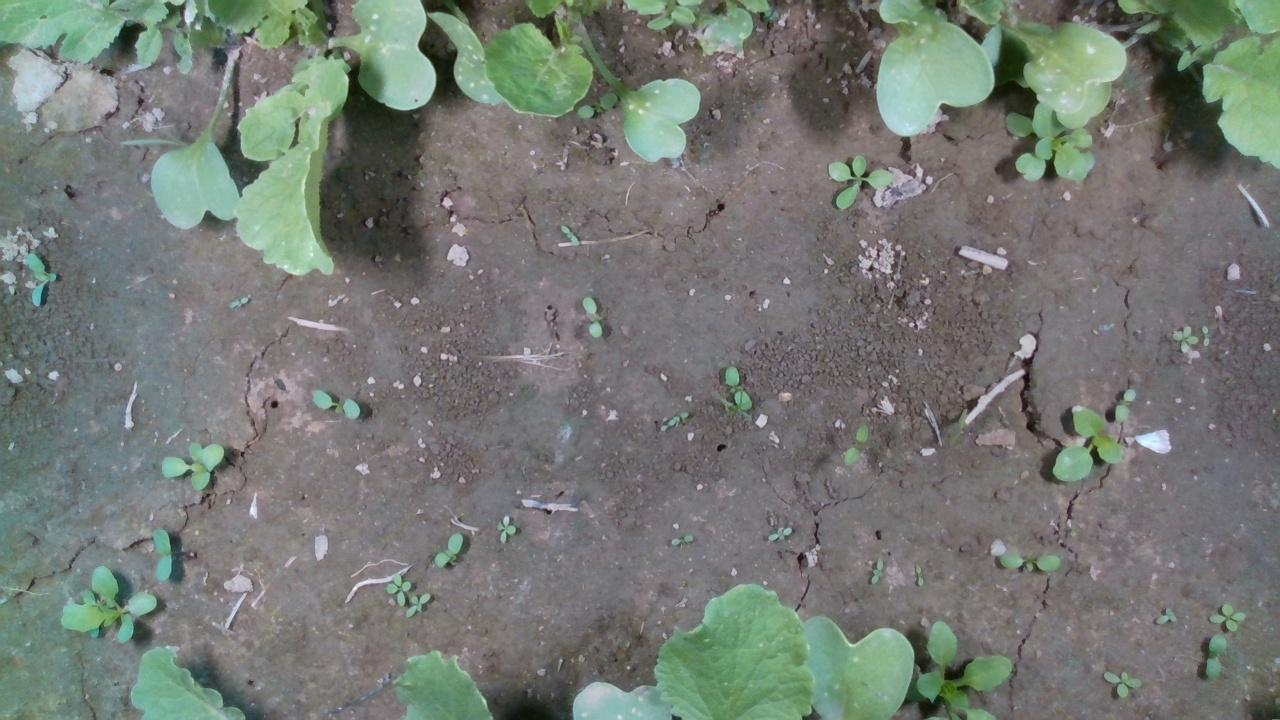weed: (824, 152, 897, 210), (308, 387, 361, 421), (996, 550, 1062, 572), (1200, 633, 1229, 681), (839, 421, 869, 467), (148, 527, 173, 582), (1098, 667, 1142, 697), (1204, 602, 1247, 631), (578, 293, 605, 339), (430, 531, 463, 568), (1168, 322, 1199, 354), (1112, 385, 1136, 423), (493, 514, 517, 544), (1152, 604, 1180, 627), (866, 556, 887, 585), (763, 523, 793, 543), (555, 223, 581, 245), (668, 533, 696, 547), (912, 562, 927, 587), (1199, 322, 1212, 347)
